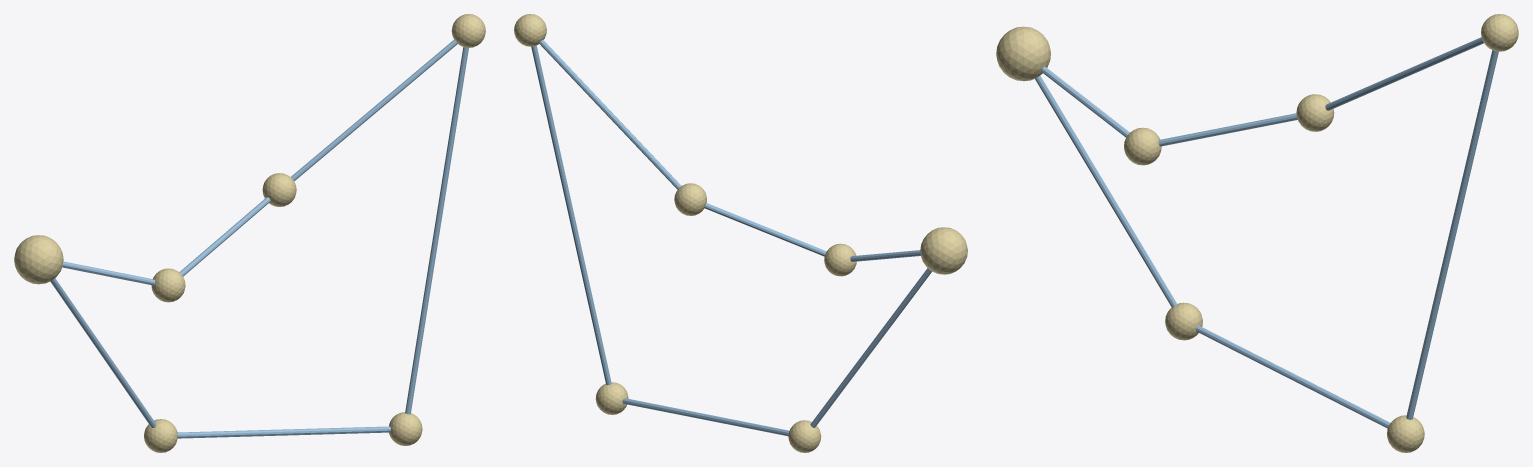
File: capricornio.glb
3 views of the same model, side by side, from view 1: azimuth 30°, elevation 25°; view 2: azimuth 150°, elevation 25°; view 3: azimuth 330°, elevation 25° (orthographic). The views are drawn at different scales.
Parts seen in each view (by area): view 1: world; view 2: world; view 3: world.
Part boxes in pixels (x1=…): world: x1=14, y1=14, x2=485, y2=452; world: x1=514, y1=14, x2=967, y2=452; world: x1=996, y1=14, x2=1518, y2=452.
Bounding box in the file's own units: 3.14 × 2.6 × 0.4614.
